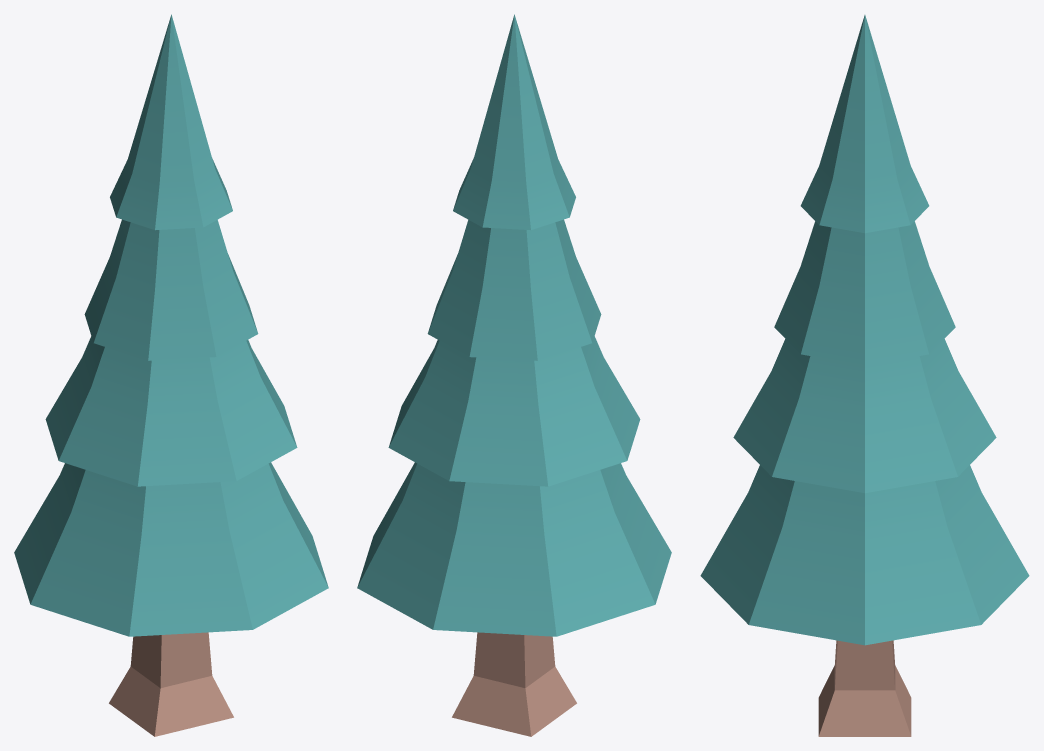
File: tree_pineRoundE.glb
The picture shows the model from 3 angles, left to right: view 1: azimuth 30°, elevation 25°; view 2: azimuth 150°, elevation 25°; view 3: azimuth 270°, elevation 25°; orthographic projection.
Visible parts, largest first — view 1: tree_pineRoundE; view 2: tree_pineRoundE; view 3: tree_pineRoundE.
Part boxes in pixels (box(x1,y1,x2,y2)): tree_pineRoundE: box(14, 14, 328, 736); tree_pineRoundE: box(357, 14, 671, 736); tree_pineRoundE: box(700, 15, 1029, 736).
Size of the model in its own units: 0.532 by 1.25 by 0.532.
